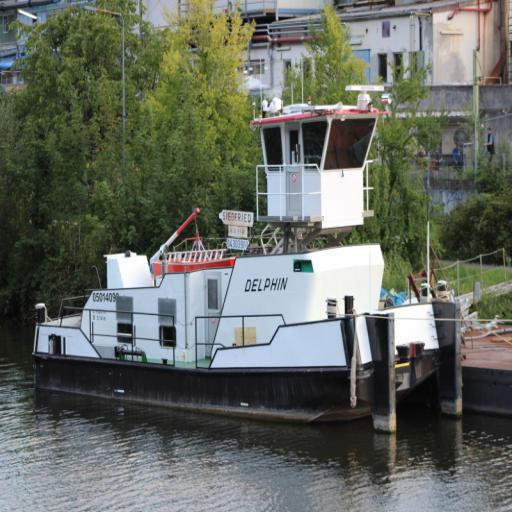tugboat: (27, 81, 468, 442)
